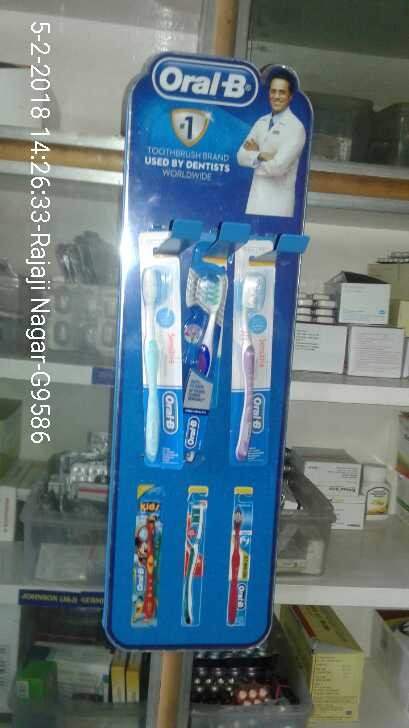oralb: (139, 251, 184, 467), (229, 256, 274, 462), (182, 266, 222, 459)
